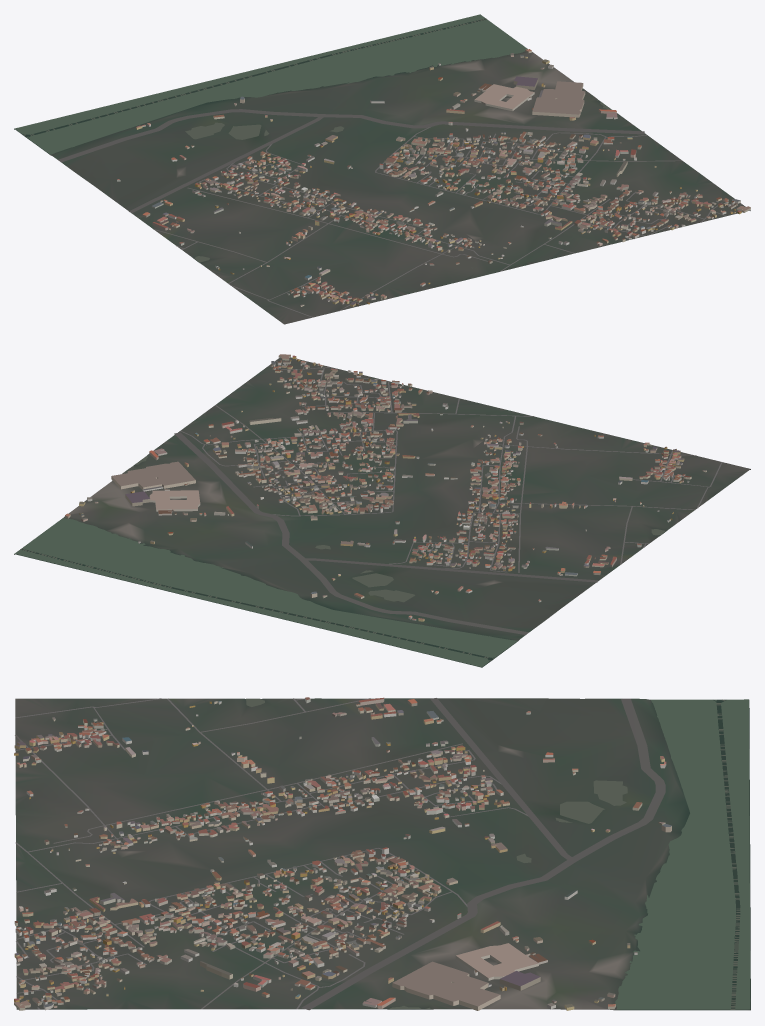
3 views of the same model, one above another, from view 1: azimuth 30°, elevation 25°; view 2: azimuth 150°, elevation 25°; view 3: azimuth 270°, elevation 25° (orthographic). The views are drawn at different scales.
Parts seen in each view (by area): view 1: ground, buildings, water, roads; view 2: ground, buildings, water, roads; view 3: ground, buildings, water, roads.
Part boxes in pixels (x1,y1,x2,y2): ground: (14, 18, 750, 324); buildings: (117, 49, 750, 306); water: (15, 14, 611, 268); roads: (58, 109, 742, 317); ground: (14, 357, 750, 667); buildings: (65, 354, 706, 621); water: (15, 427, 665, 667); roads: (174, 361, 722, 634); ground: (15, 698, 750, 1010); buildings: (14, 697, 671, 1010); water: (246, 698, 750, 1009); roads: (15, 698, 665, 1010).
Size of the model in its own units: 1413 by 17.59 by 1407.
